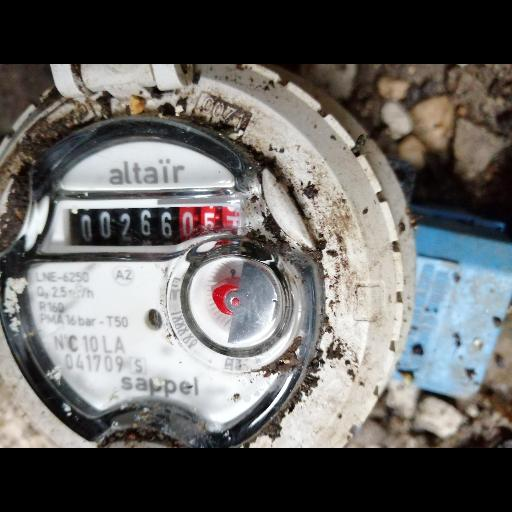0: (78, 209, 95, 245), (97, 209, 113, 246), (180, 207, 196, 243)
2: (117, 209, 133, 246)
5: (200, 206, 217, 238)
6: (158, 208, 175, 245), (138, 209, 154, 246)
7: (223, 205, 240, 235)
border_water_meter_number: (38, 198, 244, 255)
